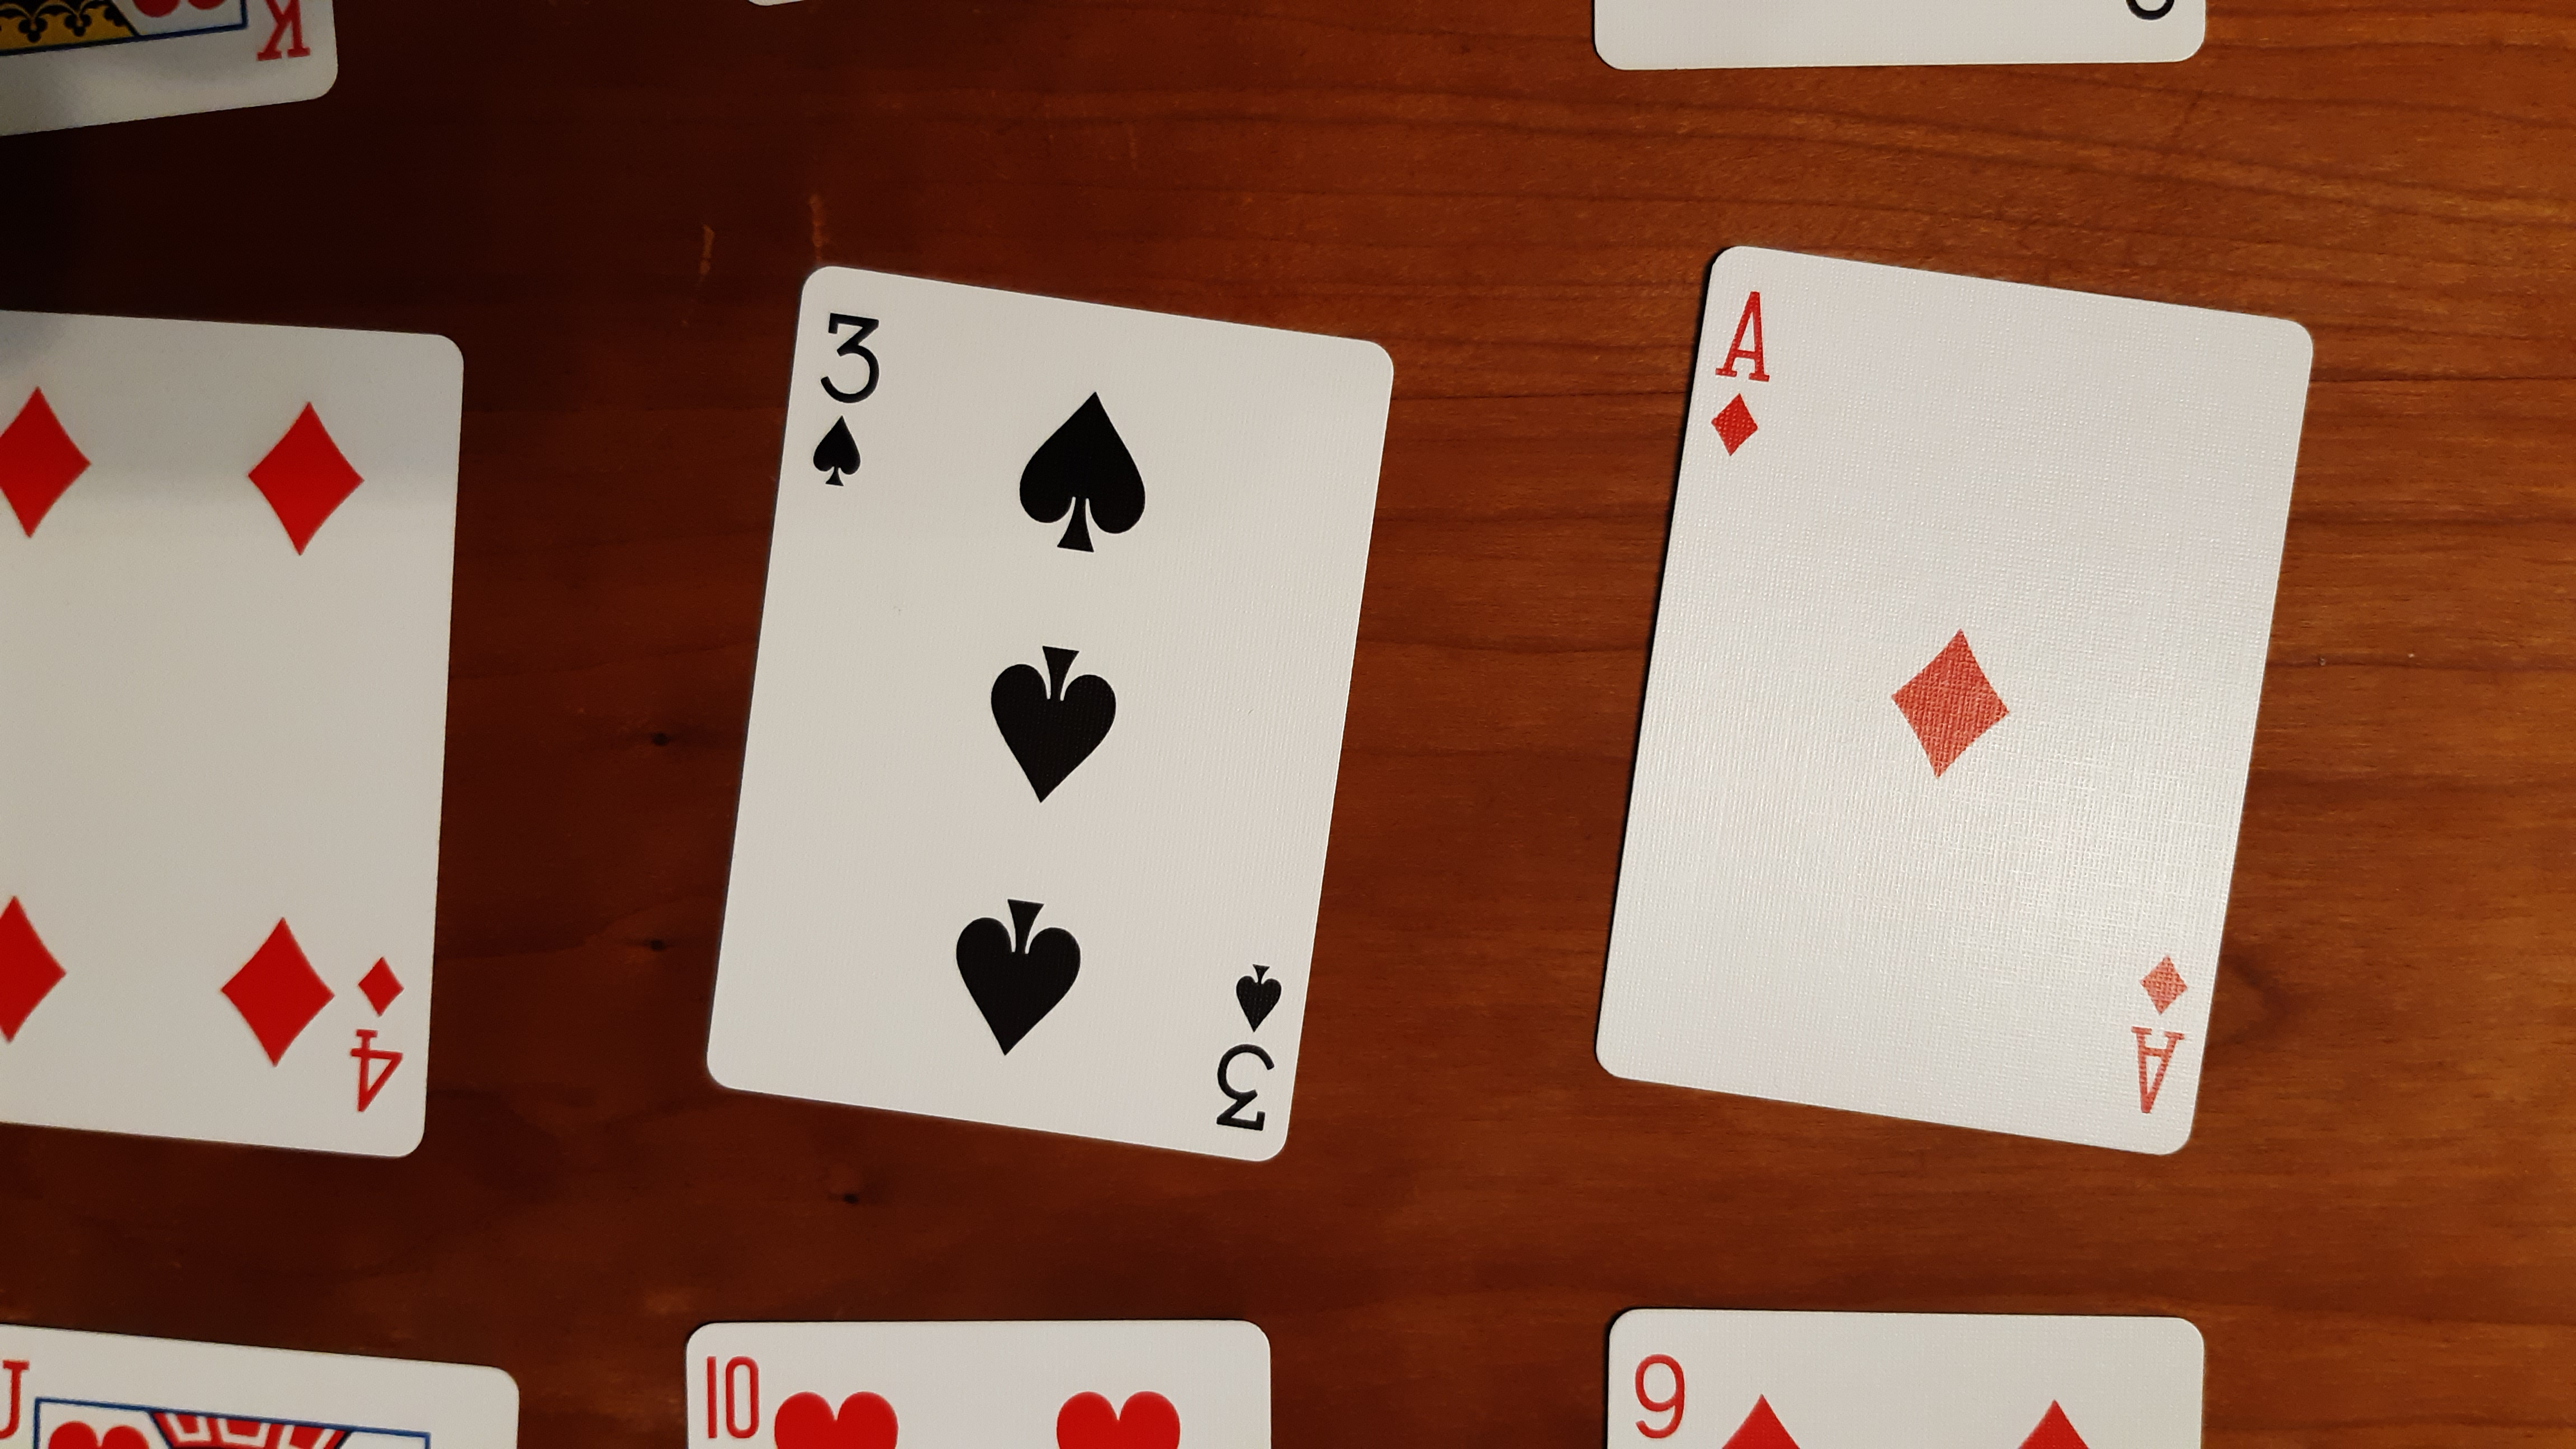Black_Spade_3: (807, 301, 888, 499), (1208, 954, 1284, 1143)
Red_Diamond_4: (349, 947, 410, 1115)
Red_Diamond_Ace: (1706, 278, 1780, 462), (2125, 945, 2197, 1118)
Red_Heart_10: (697, 1348, 1194, 1447)
